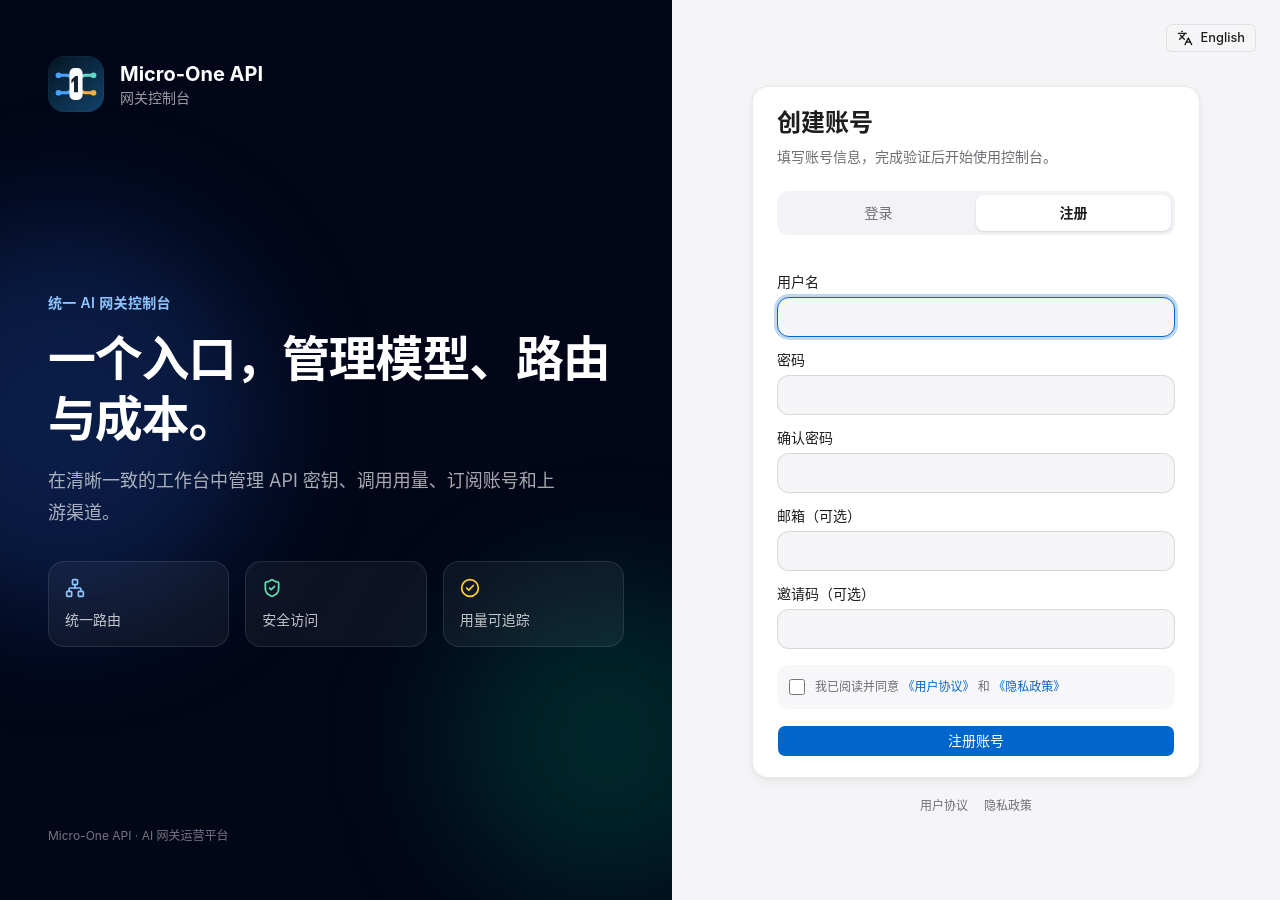
Test case: LoginPage › requires explicit agreement before registration
Type "alice" into the field labelled "用户名" at [976, 317], box x1=777 y1=297 x2=1175 y2=337
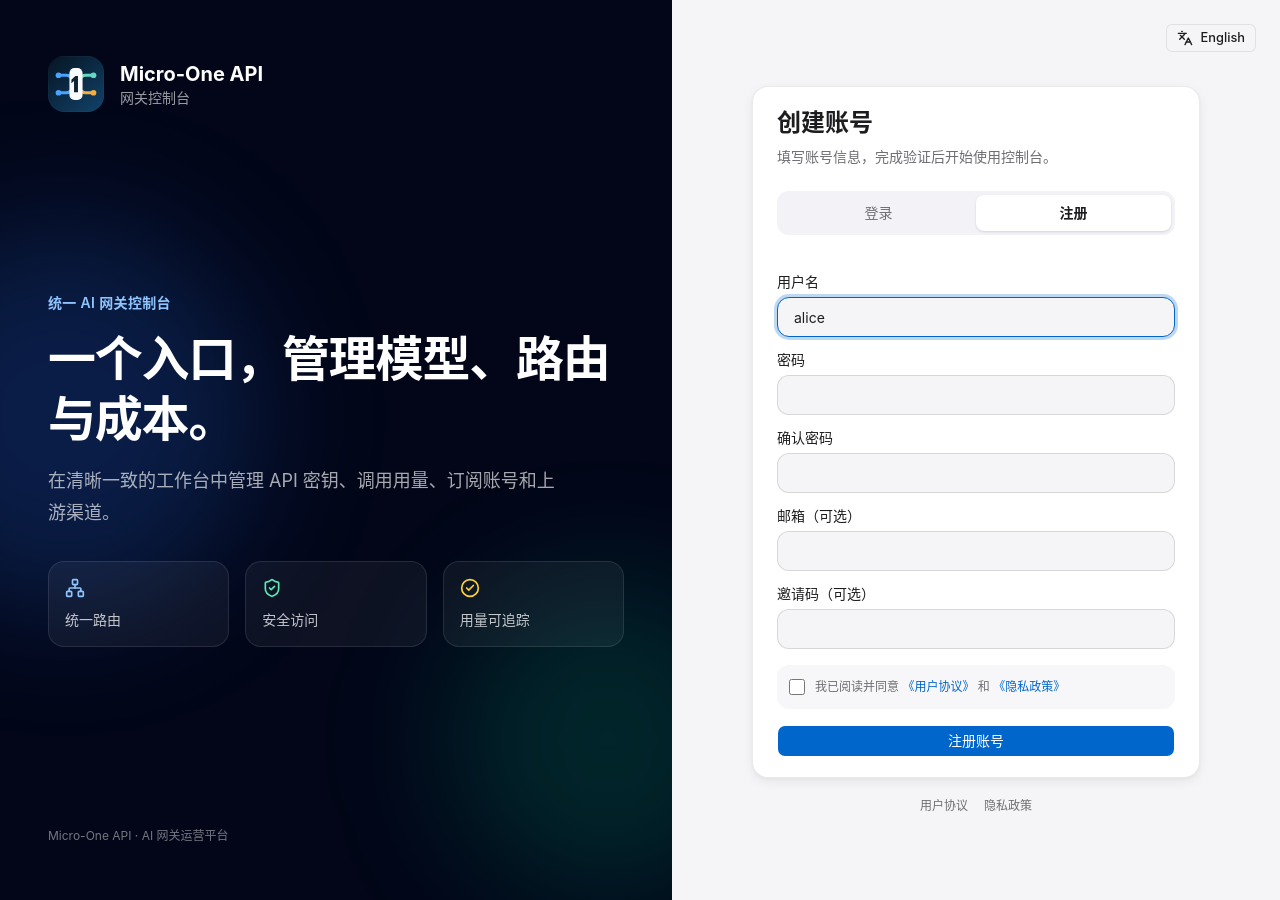
Type "password-1" into the password field labelled "密码" at [976, 395], box x1=777 y1=375 x2=1175 y2=415
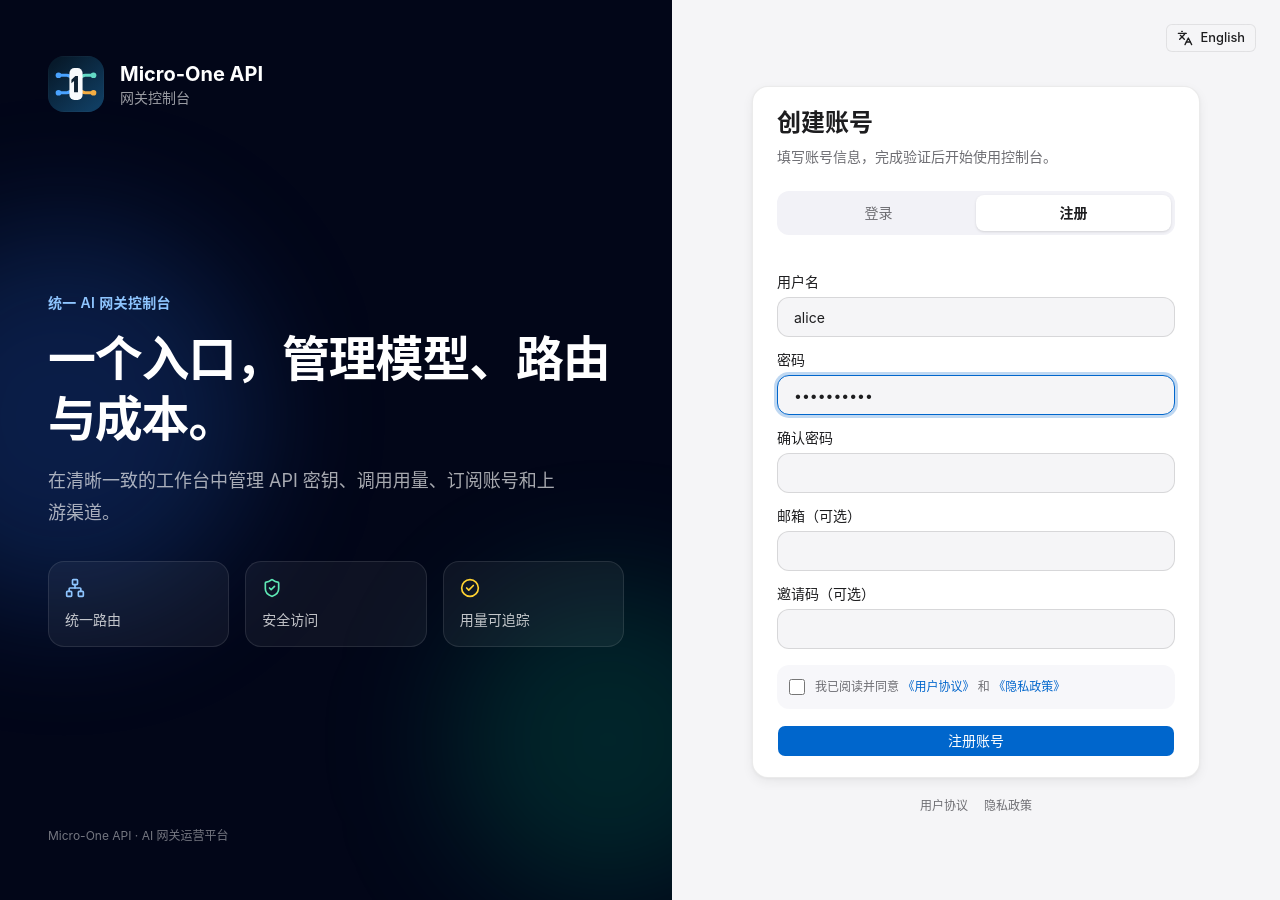
Type "password-1" into the password field labelled "确认密码" at [976, 473], box x1=777 y1=453 x2=1175 y2=493
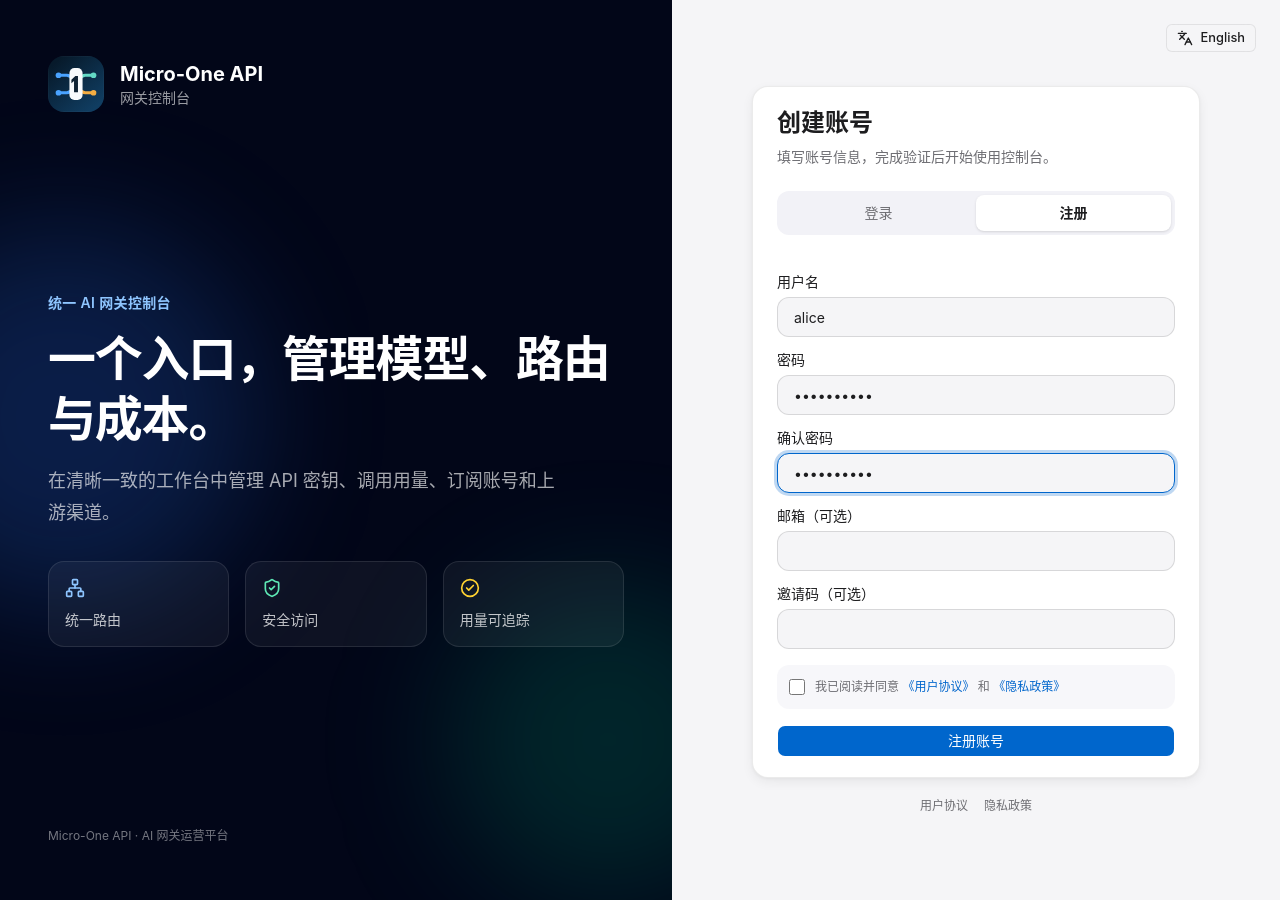
Click the button "注册账号" at [976, 741], box x1=777 y1=725 x2=1175 y2=757
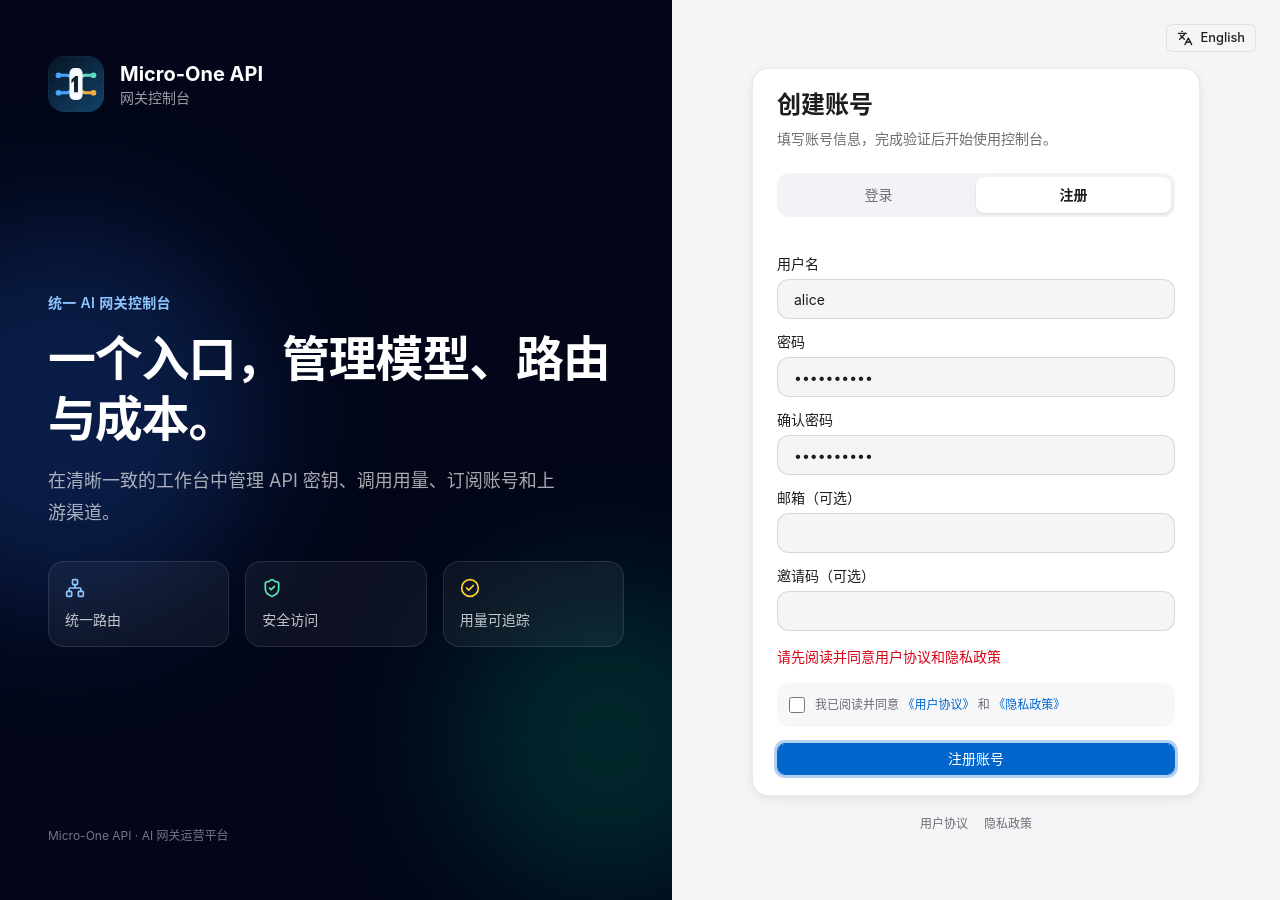
Now the message reads "请先阅读并同意用户协议和隐私政策", box x1=777 y1=648 x2=1001 y2=665
